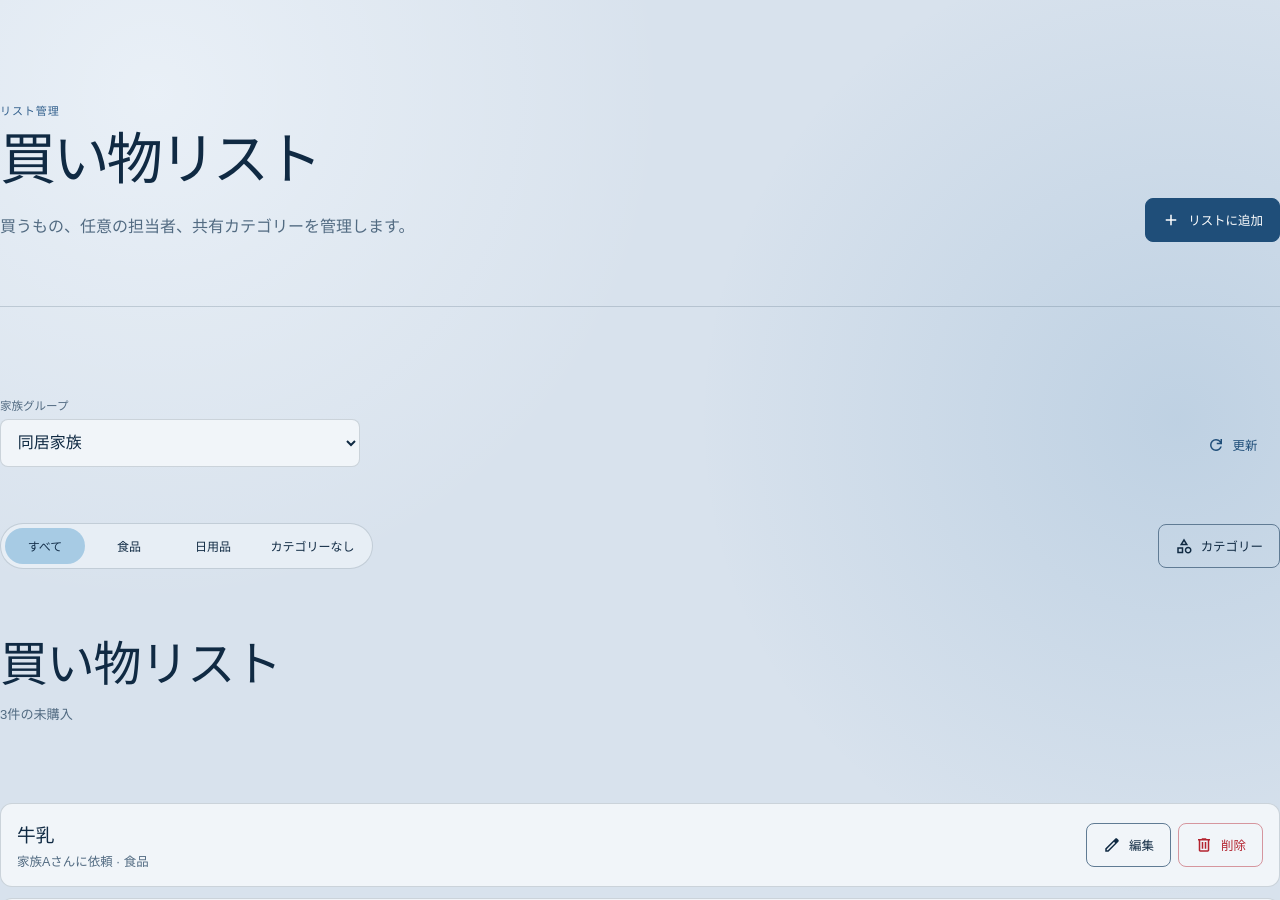
Test: ShoppingListPage › does not apply unfinished form input when the dialog is canceled
Click the button "リストに追加". click: {"x": 1213, "y": 220}
box: x1=1145 y1=198 x2=1279 y2=242
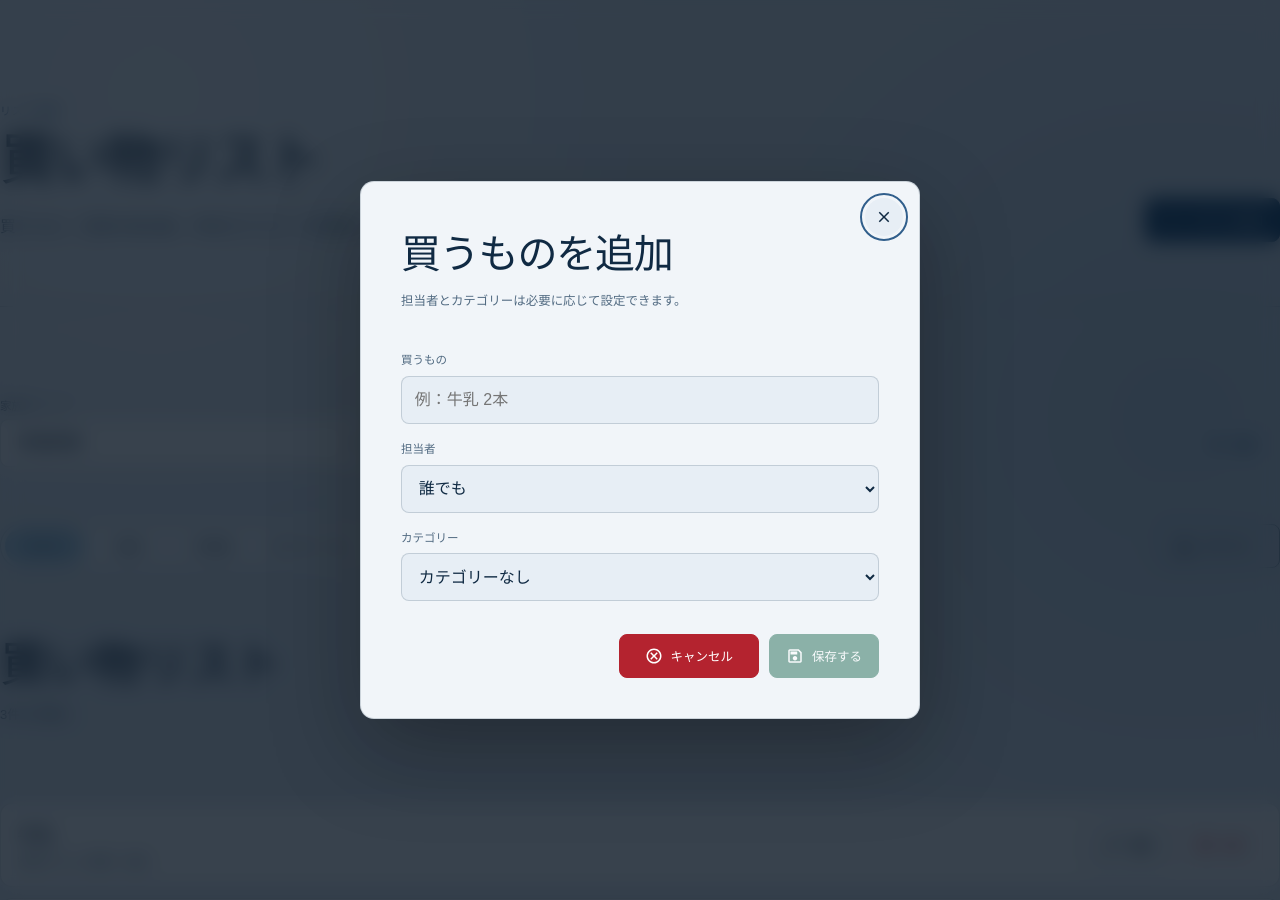
Type "途中入力" into the field labelled "買うもの". click: {"x": 640, "y": 400}
box: x1=401 y1=376 x2=879 y2=424
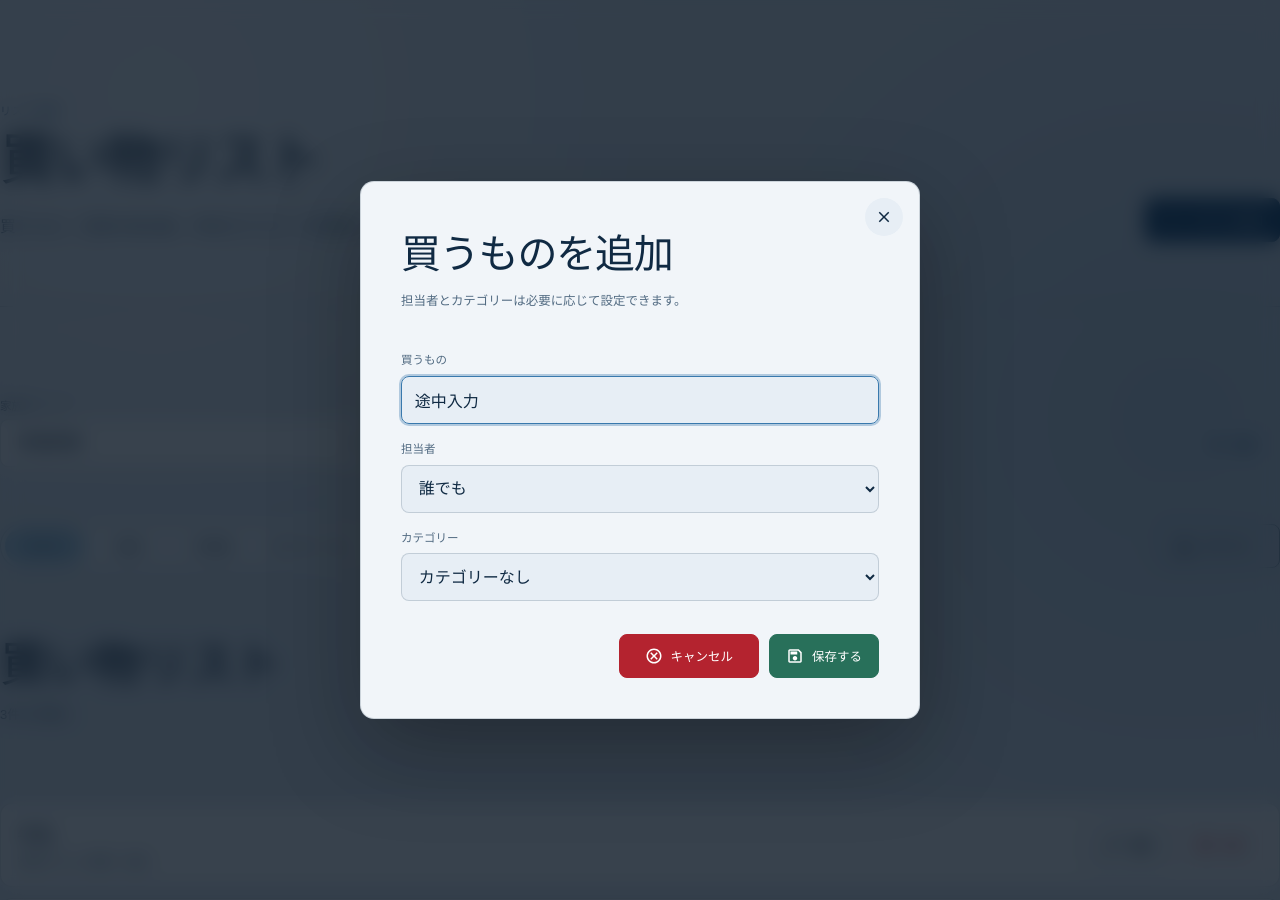
Click the button "キャンセル". click: {"x": 689, "y": 656}
box: x1=619 y1=634 x2=759 y2=678
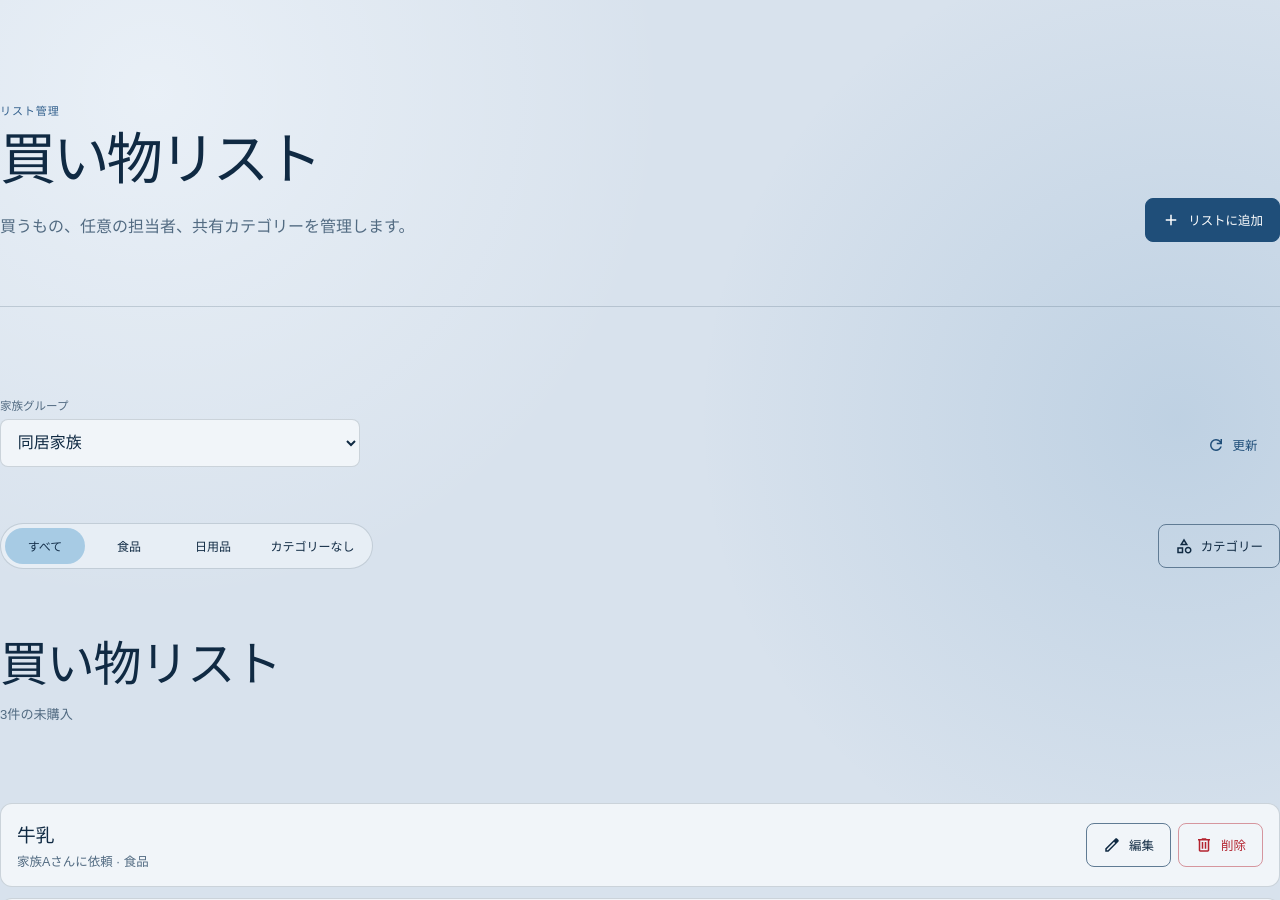
Expected: the heading "途中入力" is not shown
Expected: the dialog is gone
